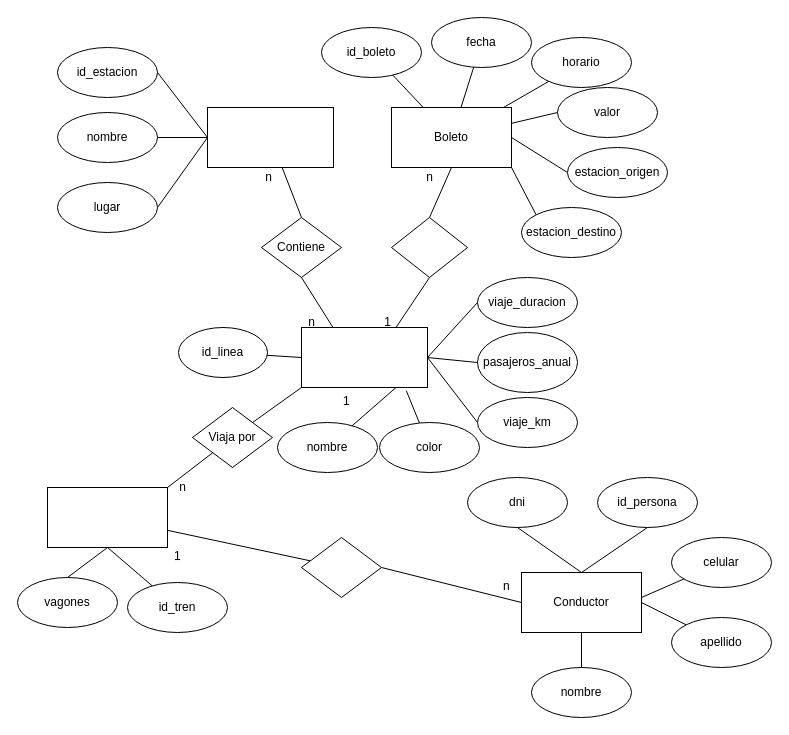
This 789x735 diagram has some shape labels left out. The shapes that lost their labels are listed below. From the top down, each one's centre as x and y in pixels, then its label:
At (270,137): "Estacion".
At (429,247): "Genera".
At (364,357): "Linea".
At (107,517): "Tren".
At (341,567): "Maneja".
